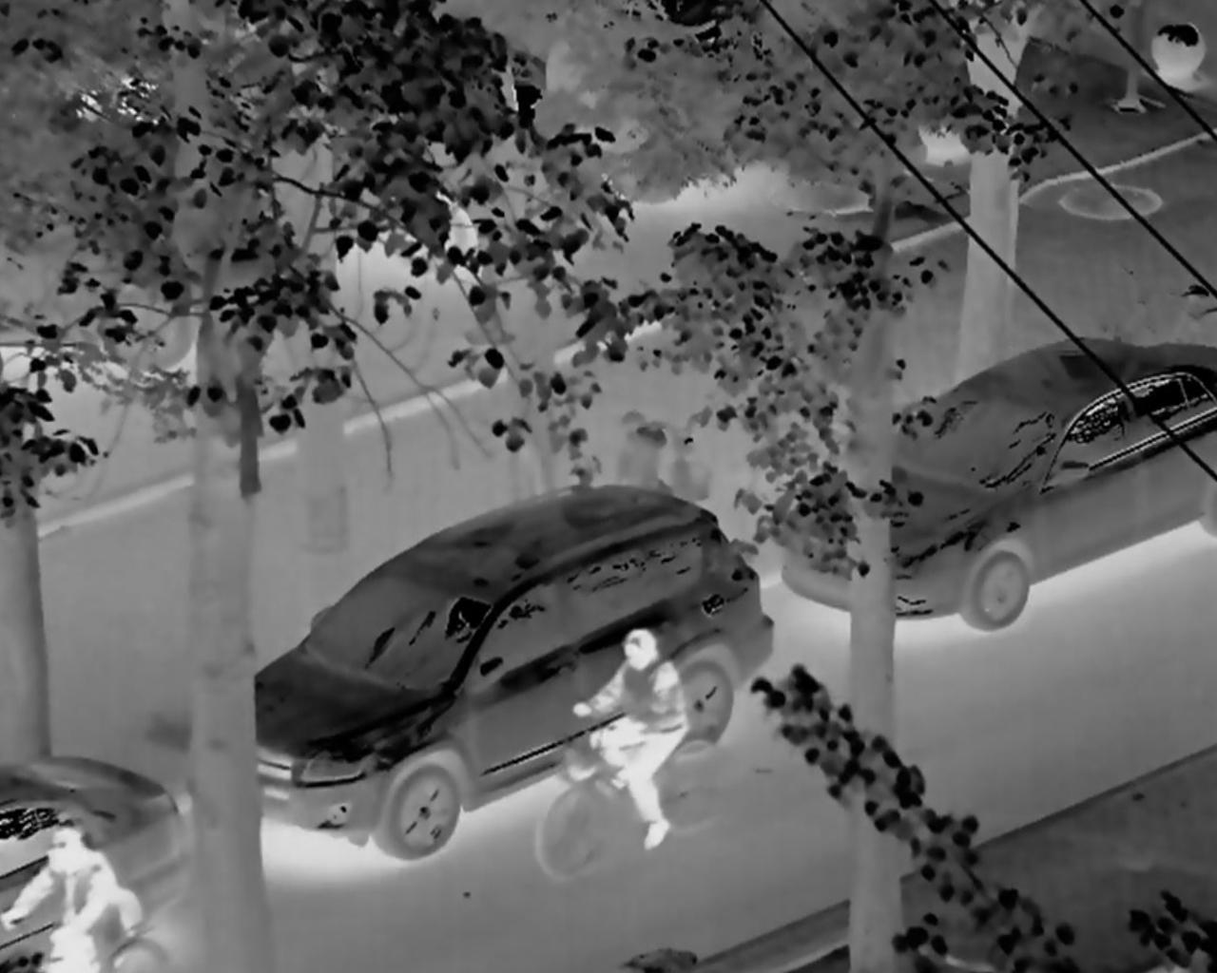person: (549, 619, 728, 886), (3, 828, 143, 944)
